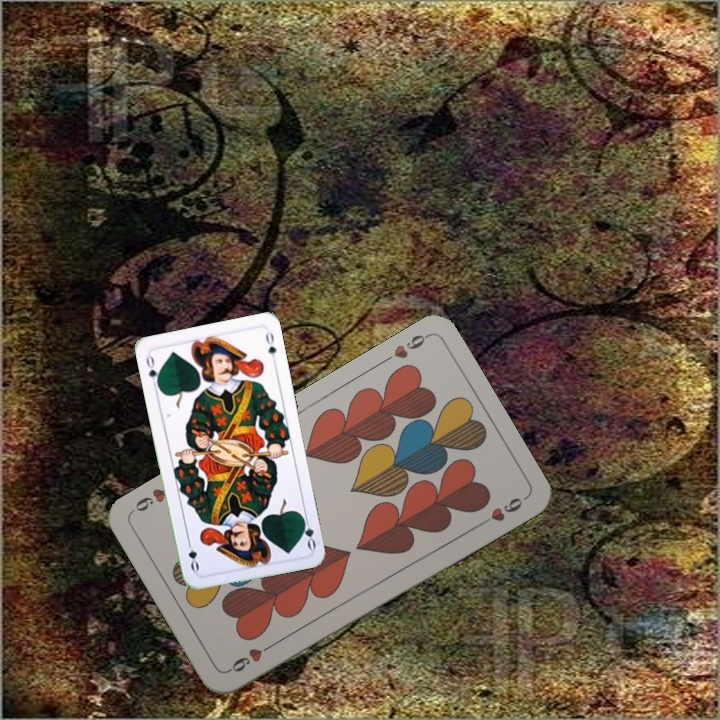GO: (298, 511, 319, 552), (142, 351, 162, 390)
H9: (224, 639, 277, 675), (378, 330, 431, 366)
